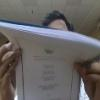notebook: (0, 17, 99, 99)
